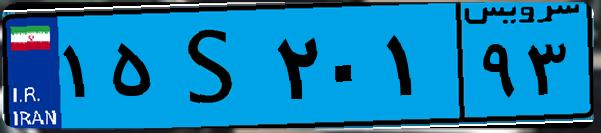0: (330, 28, 385, 110)
1: (385, 28, 445, 110), (57, 26, 110, 100)
2: (270, 28, 330, 110)
3: (525, 38, 570, 115)
5: (110, 28, 158, 98)
9: (475, 38, 525, 113)
S: (158, 12, 270, 120)
